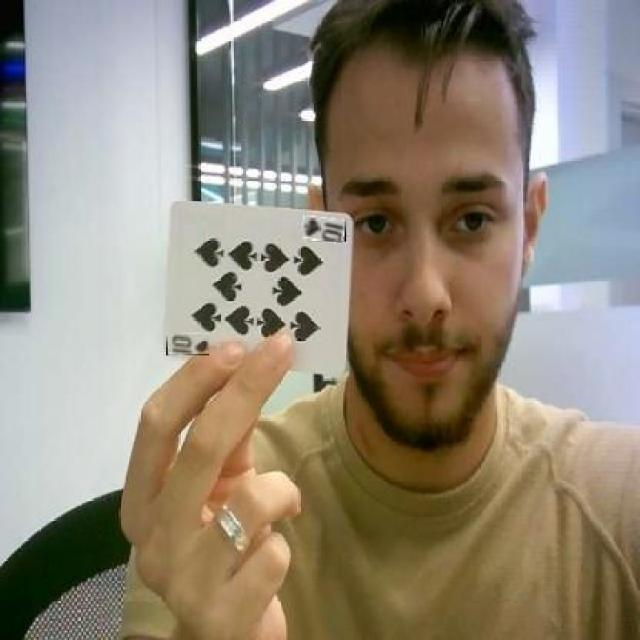10S: (302, 217, 346, 241), (167, 332, 210, 356)
